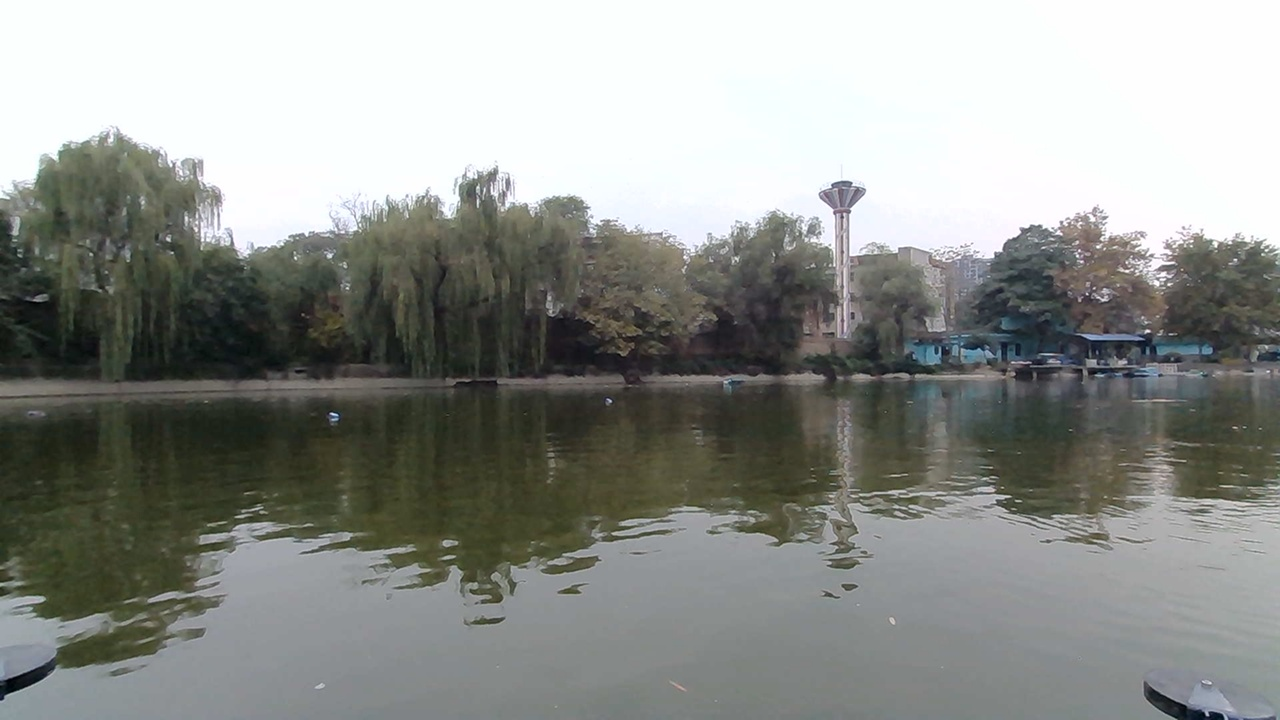bottle: (318, 407, 349, 425)
